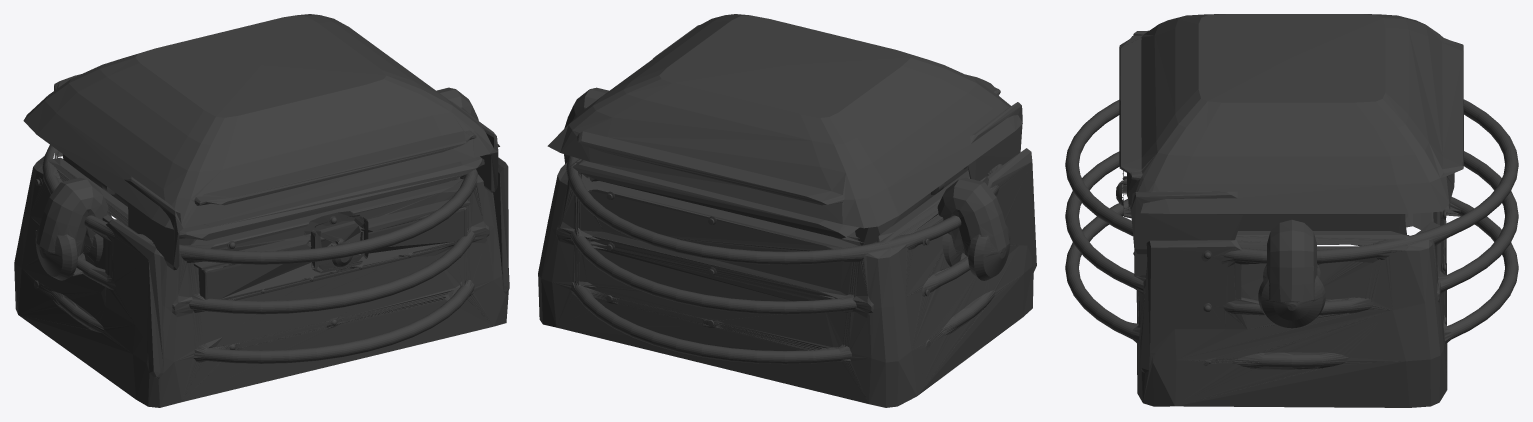
The model's file is tmp_chest_reg.glb.
3 renders of one model, left to right at view 1: azimuth 30°, elevation 25°; view 2: azimuth 150°, elevation 25°; view 3: azimuth 270°, elevation 25°, orthographic. The views are drawn at different scales.
Visible parts, largest first — view 1: body, lid_panel, front_hatch, handle_l, lock_plate, handle_r; view 2: body, lid_panel, handle_l, handle_r; view 3: lid_panel, body, handle_r.
Part boxes in pixels (x1,y1,x2,y2): body: (14,145,509,407); lid_panel: (23,14,499,270); front_hatch: (196,202,470,300); handle_l: (35,167,137,291); lock_plate: (217,193,438,273); handle_r: (436,87,478,179); body: (538,148,1036,407); lid_panel: (547,14,1022,245); handle_l: (899,177,1010,280); handle_r: (564,87,608,178); lid_panel: (1119,14,1463,254); body: (1065,99,1518,407); handle_r: (1236,220,1377,329).
Bounding box in the file's own units: 80.55 × 44.99 × 68.7.
1 material, 1 textured.
